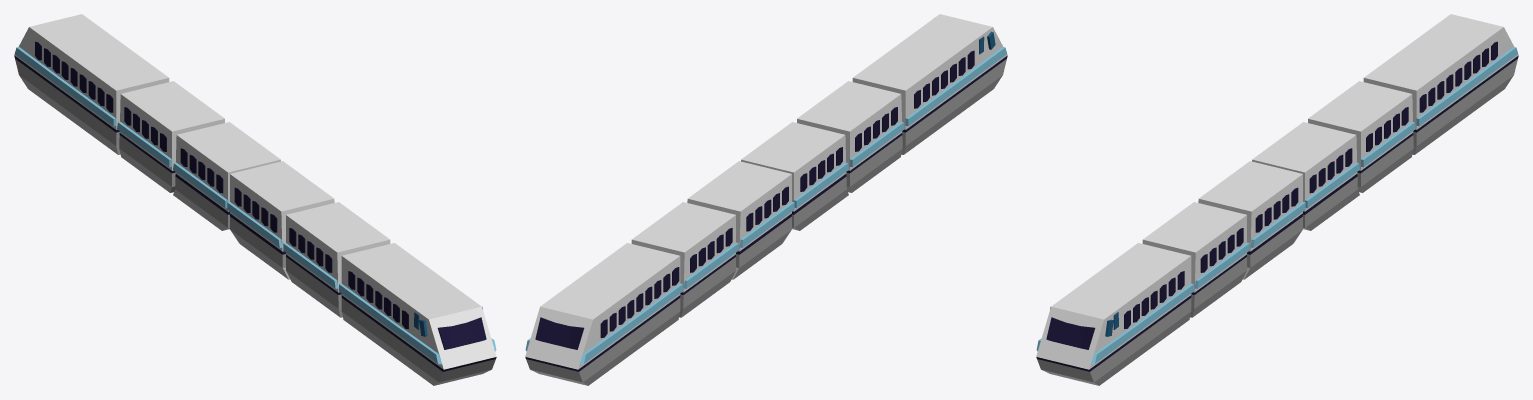
The model's file is modernTrain2.fbx.
3 views of the same model, side by side, from view 1: azimuth 30°, elevation 25°; view 2: azimuth 150°, elevation 25°; view 3: azimuth 330°, elevation 25° (orthographic).
Parts seen in each view (by area): view 1: head, tail, car4, car2, car1, car3; view 2: tail, head, car1, car3, car4, car2; view 3: head, tail, car4, car2, car1, car3.
Boxes of the visible parts, x1,y1,x2,y2 form: head: (339,243,496,385); tail: (14,14,169,154); car4: (117,81,224,192); car2: (227,161,334,279); car1: (283,202,390,317); car3: (173,122,280,230); tail: (525,243,682,385); head: (852,14,1007,154); car1: (797,81,904,192); car3: (687,161,794,279); car4: (631,202,738,317); car2: (741,122,848,230); head: (1036,243,1193,385); tail: (1363,14,1518,154); car4: (1308,81,1415,192); car2: (1198,161,1305,279); car1: (1142,202,1249,317); car3: (1252,122,1359,230).
Size of the model in its own units: 223 by 233 by 2806.
